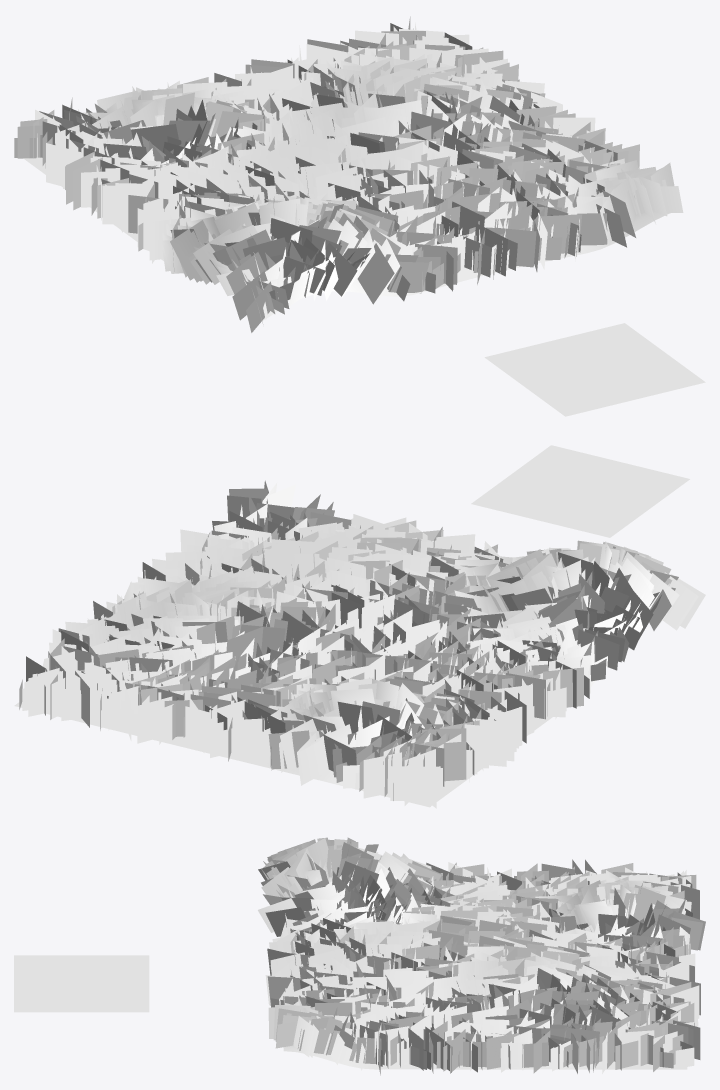
Rendered from grass.glb.
3 renders of one model, top to bottom at view 1: azimuth 30°, elevation 25°; view 2: azimuth 150°, elevation 25°; view 3: azimuth 270°, elevation 25°, orthographic. The views are drawn at different scales.
Visible parts, largest first — view 1: strands.2000, strands (×19), ground; view 2: strands.2000, strands (×11), ground; view 3: strands.2000, strands (×19), ground.
Part boxes in pixels (bbox=[...]): strands.2000: bbox=[35, 22, 683, 319]; strands (×19): bbox=[17, 120, 705, 416]; ground: bbox=[23, 157, 670, 320]; strands.2000: bbox=[22, 482, 705, 808]; strands (×11): bbox=[226, 445, 689, 781]; ground: bbox=[14, 628, 595, 807]; strands.2000: bbox=[258, 837, 699, 1073]; strands (×19): bbox=[14, 861, 702, 1069]; ground: bbox=[283, 877, 687, 1069].
Size of the model in its own units: 6.63 by 1.27 by 10.23.
Materials: 1 (1 with a texture image).
